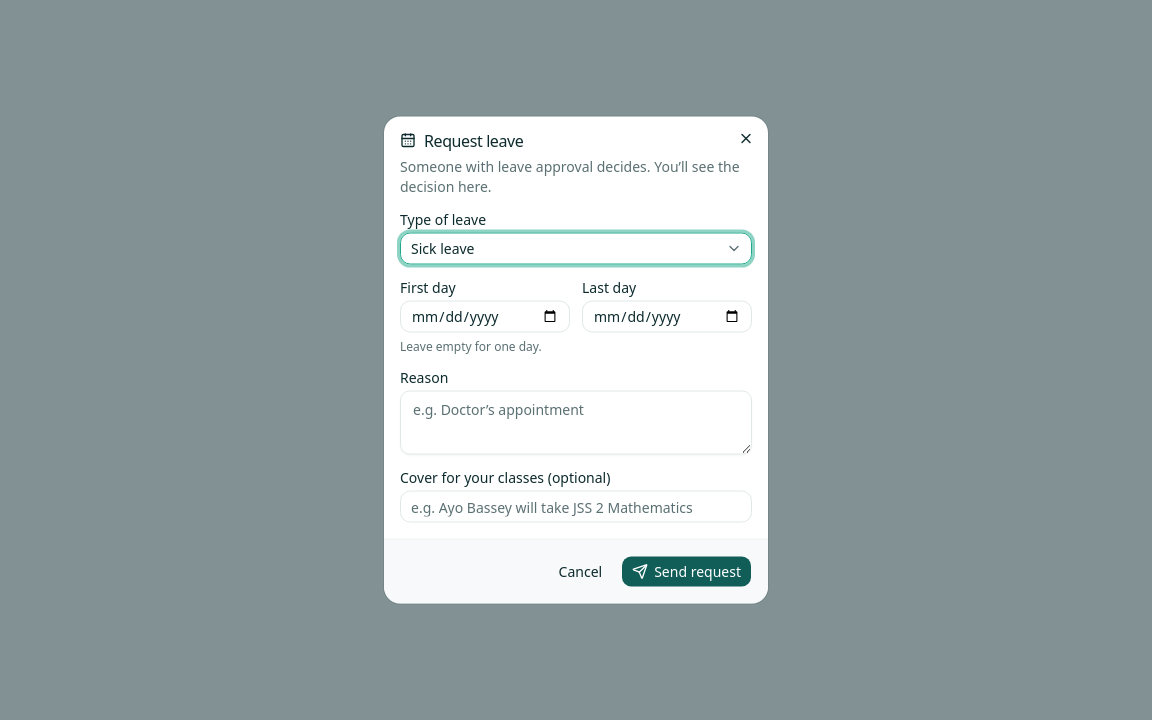
Test: RequestLeaveDialog › shows an overlap under the dates
The width and height of the screenshot is (1152, 720).
Type "2026-10-22" into the date field labelled "First day".
click(485, 316); type("2026-10-22")  # box [400, 300, 570, 332]
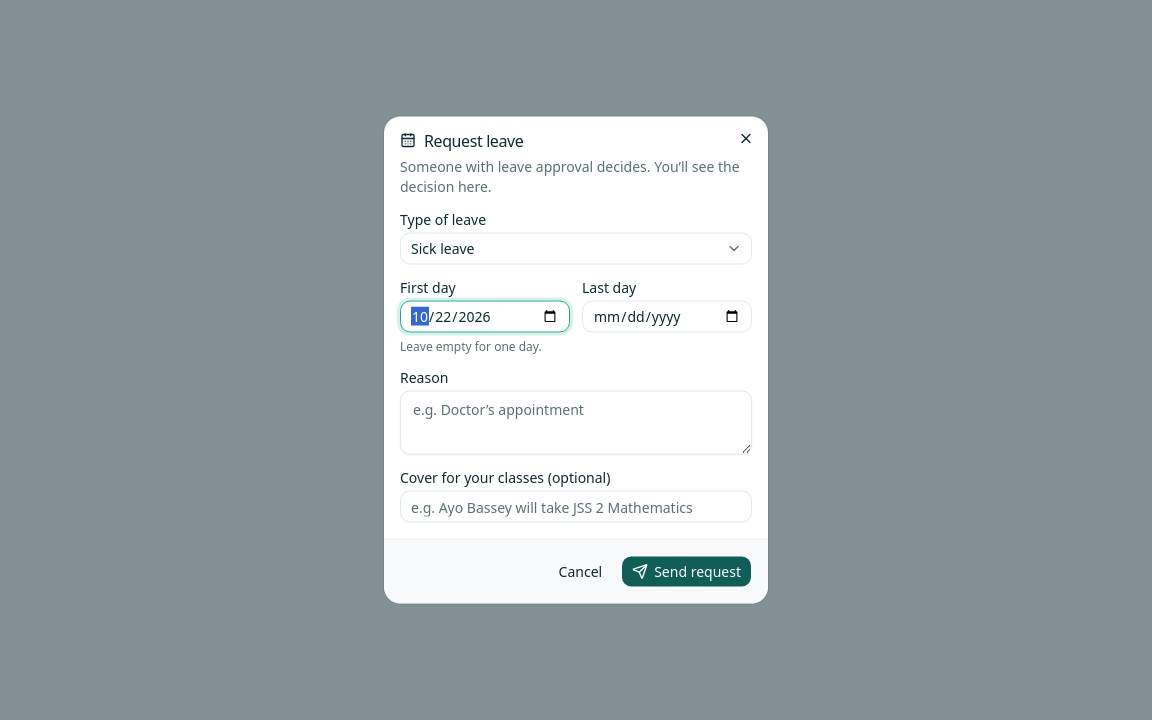
Type "Trip" into the text box labelled "Reason".
click(576, 422); type("Trip")  # box [400, 390, 752, 454]
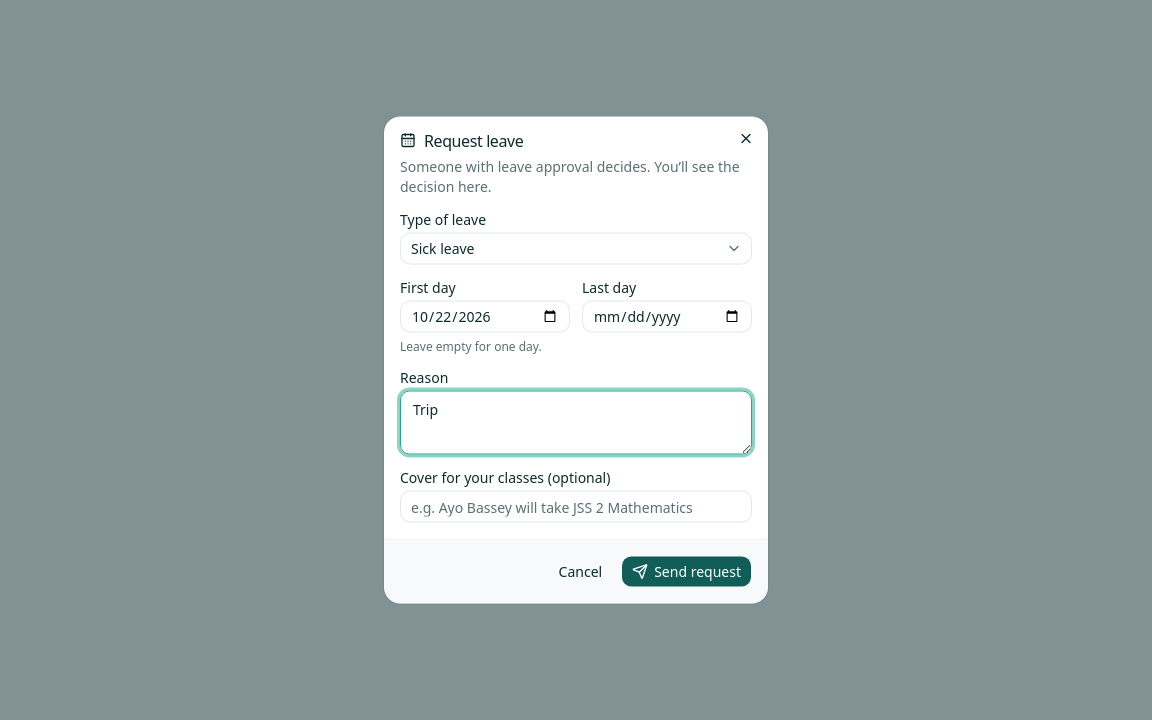
Click the button "Send request".
click(687, 572)  # box [621, 556, 752, 588]
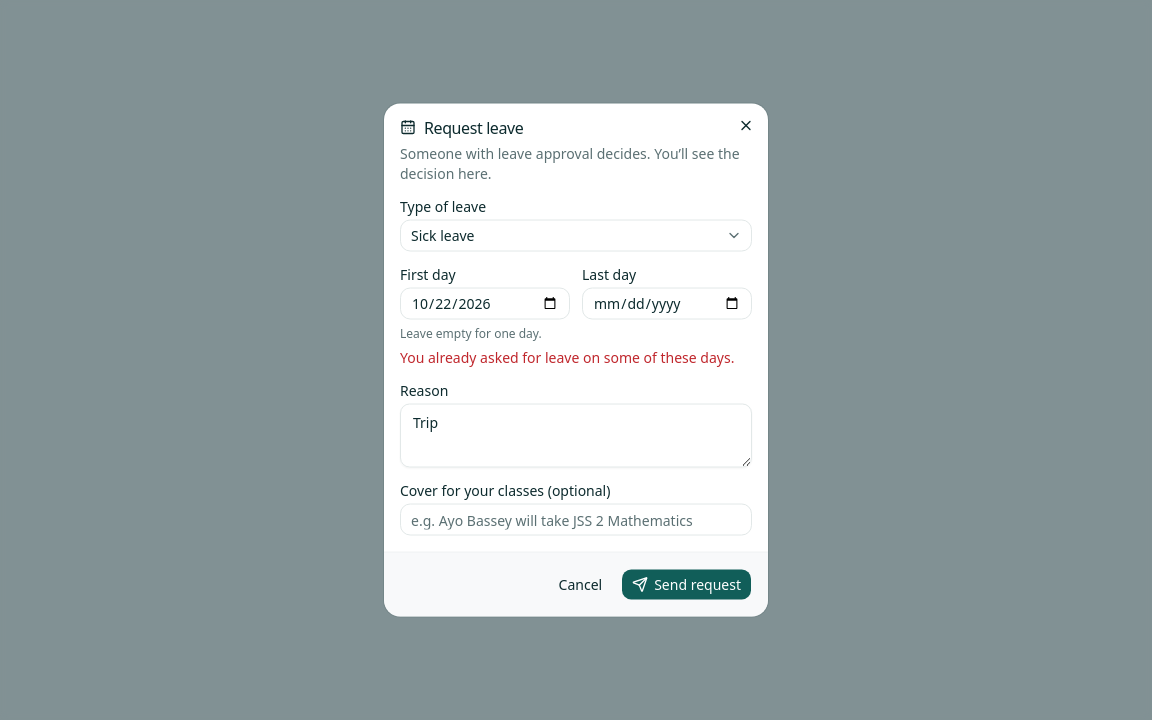
Expected: the text "You already asked for leave on some of these days." is shown, [400, 348, 752, 368]
